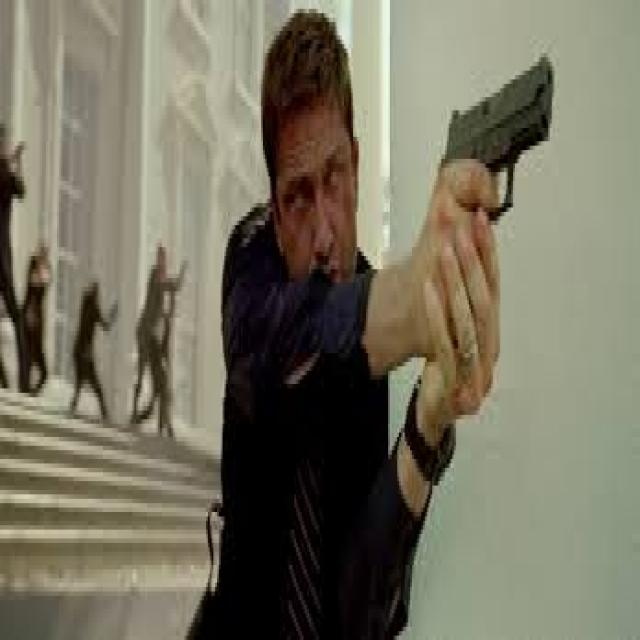gun: (428, 39, 560, 279), (12, 132, 29, 174), (108, 295, 122, 320), (177, 254, 189, 281), (44, 260, 52, 286)
